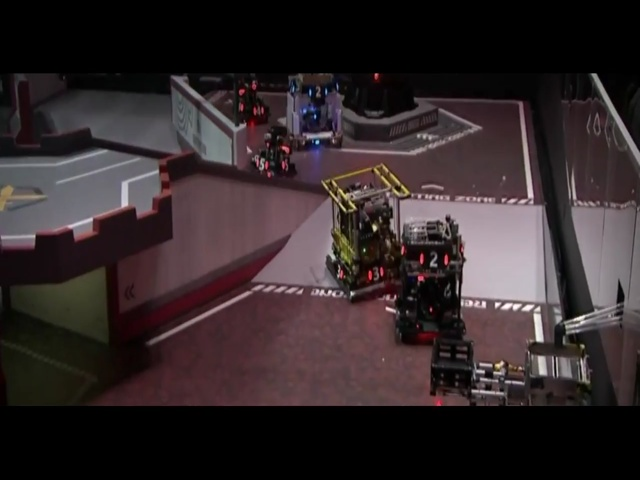plate: (138, 330, 181, 356), (397, 330, 420, 353), (274, 159, 301, 177), (205, 317, 219, 343), (153, 205, 171, 224), (343, 327, 355, 349), (319, 138, 335, 154), (235, 165, 248, 181), (124, 206, 137, 221), (345, 136, 353, 153)
